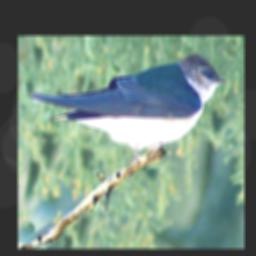Swallow: (28, 53, 229, 169)
